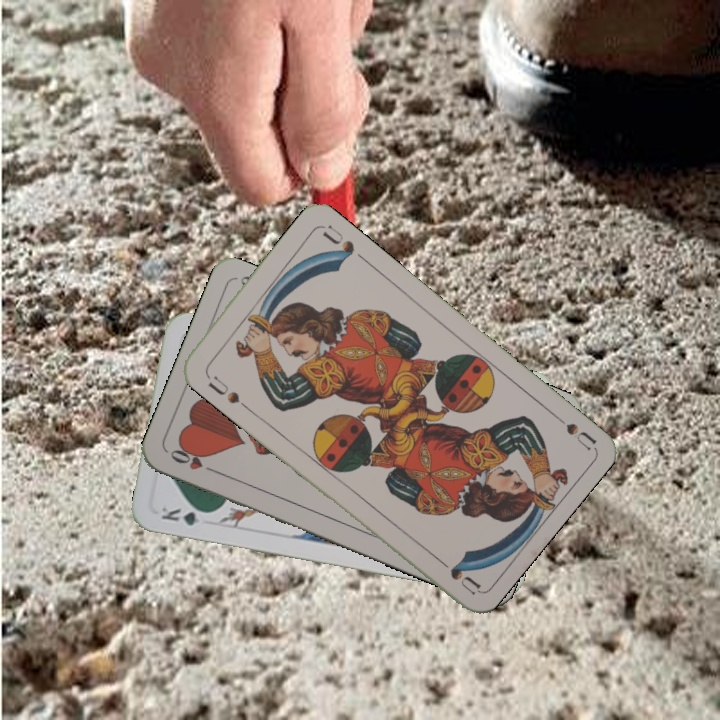GK: (157, 503, 215, 529)
HO: (166, 443, 221, 476)
SU: (545, 406, 598, 452), (203, 372, 243, 407)
